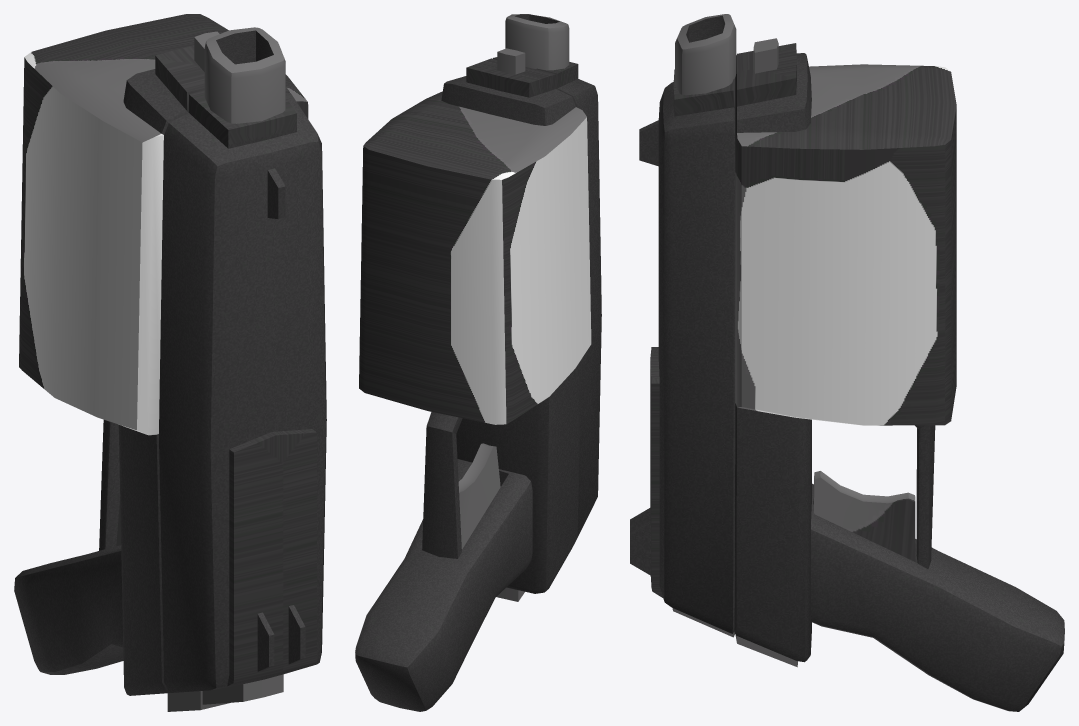
The model's file is paintball gun.glb.
The picture shows the model from 3 angles, left to right: view 1: azimuth 30°, elevation 25°; view 2: azimuth 150°, elevation 25°; view 3: azimuth 270°, elevation 25°; orthographic projection. The views are drawn at different scales.
Parts seen in each view (by area): view 1: PaintBall_Pistol_LOD0; view 2: PaintBall_Pistol_LOD0; view 3: PaintBall_Pistol_LOD0.
Boxes of the visible parts, x1=… form: PaintBall_Pistol_LOD0: x1=14, y1=14, x2=326, y2=711; PaintBall_Pistol_LOD0: x1=355, y1=14, x2=601, y2=711; PaintBall_Pistol_LOD0: x1=630, y1=14, x2=1064, y2=711.
Size of the model in its own units: 0.0815 by 0.2849 by 0.1658.
Materials: 1 (1 with a texture image).
